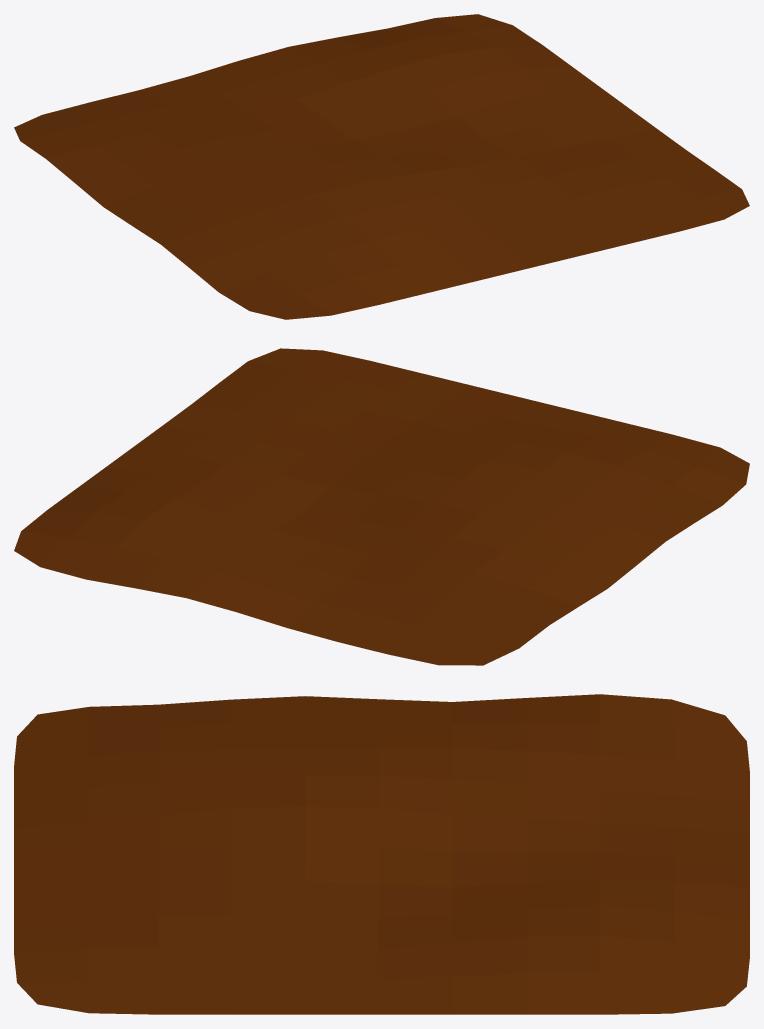
The model's file is MudSDm23.fbx.
The picture shows the model from 3 angles, top to bottom: view 1: azimuth 30°, elevation 25°; view 2: azimuth 150°, elevation 25°; view 3: azimuth 270°, elevation 25°; orthographic projection. The views are drawn at different scales.
Parts seen in each view (by area): view 1: Plane; view 2: Plane; view 3: Plane.
Part boxes in pixels (x1,y1,x2,y2): Plane: (14,14,749,319); Plane: (14,348,749,665); Plane: (14,694,749,1014).
Size of the model in its own units: 180 by 7.76 by 180.
